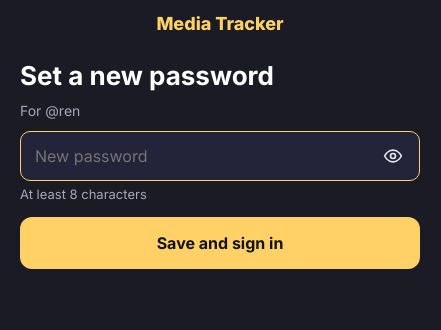
Scenario: /reset/:token › refuses a short password before asking the server; Show password works
Type "short" into the password field labelled "New password" at (202, 156), box [33,132,371,180]
Then press Enter
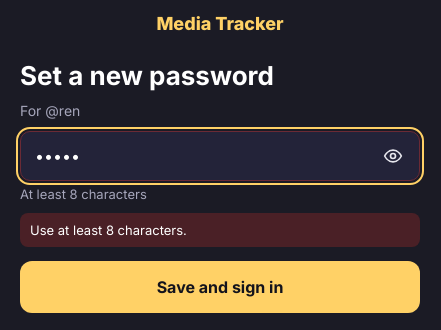
expect the message reads "Use at least 8 characters.": met, box [30,222,187,238]
Click the button named "Show password" at (393, 156), box [371,134,415,178]
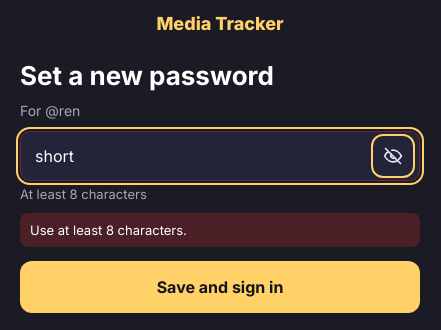
expect the field named "New password" shows its text: met, box [33,132,371,180]
